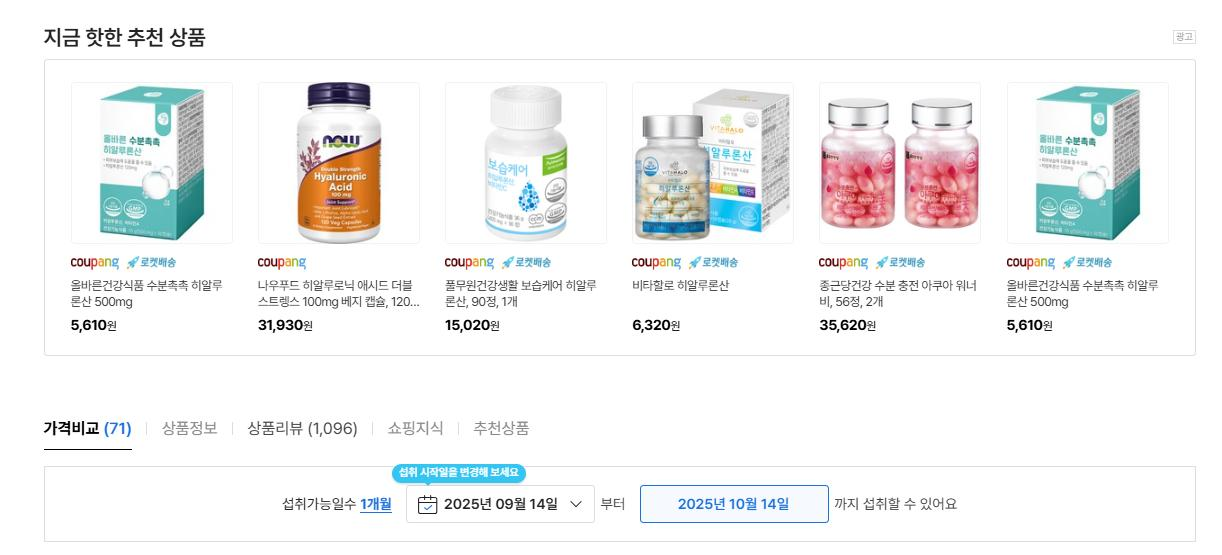button: (35, 406, 144, 455), (239, 409, 366, 447), (375, 408, 455, 448), (470, 411, 540, 451), (154, 409, 228, 444)
checkbox: (405, 486, 601, 529)
popup: (35, 13, 1201, 364)
